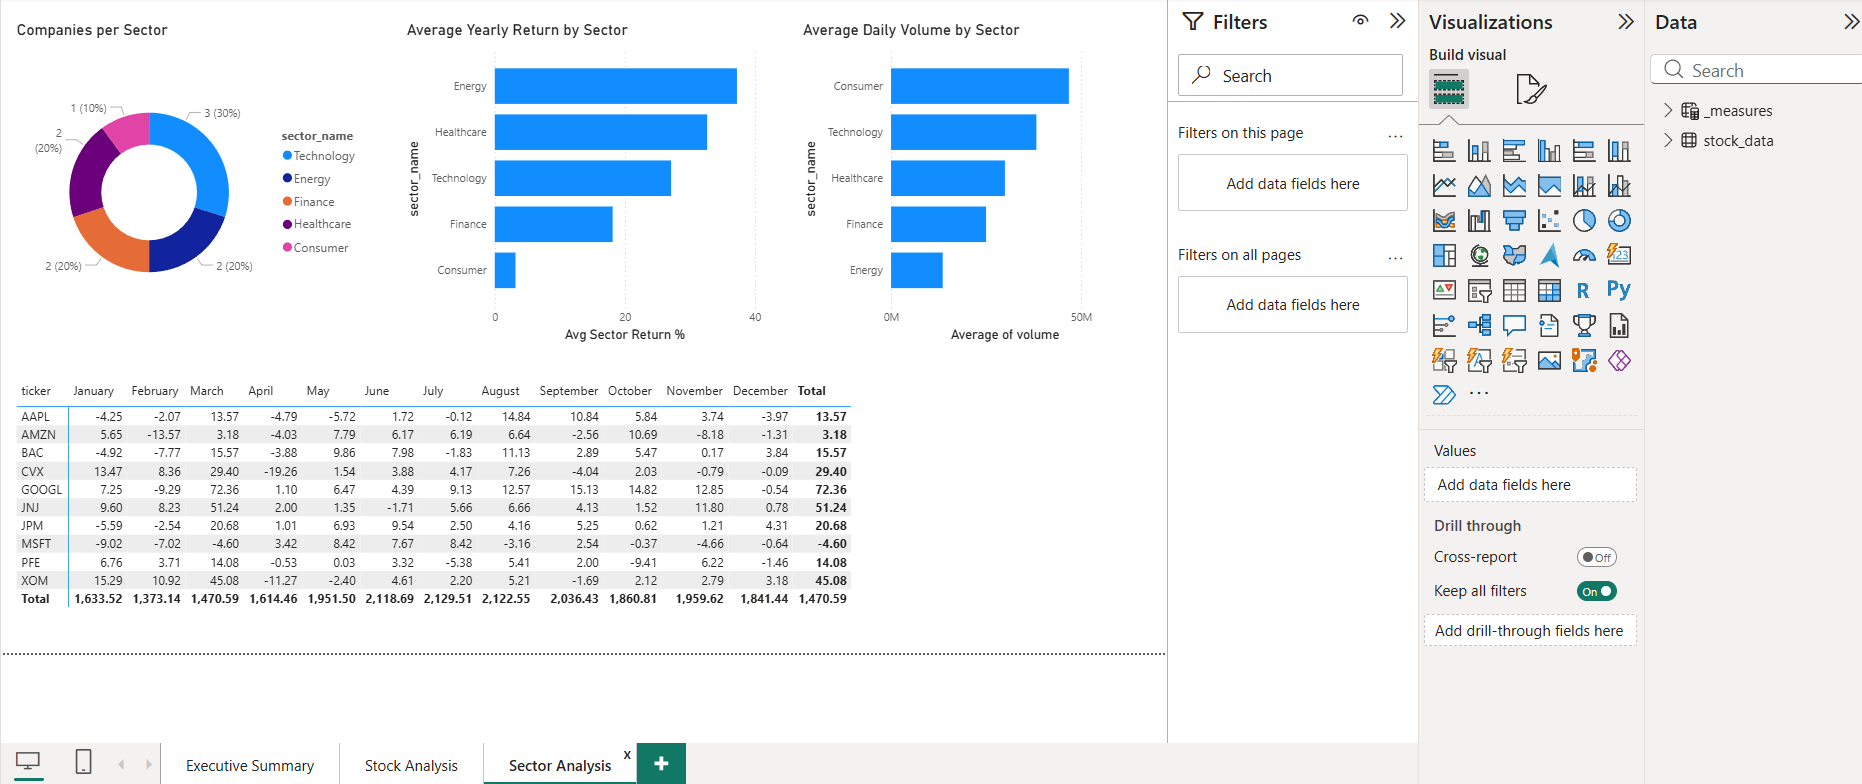

This screenshot's page, from the dashboard's own definition file:
{"tool":"powerbi","page":{"name":"Sector Analysis","canvas":[1280,720],"ordinal":2},"visuals":[{"type":"donutChart","title":"Companies per Sector","fields":{"Category":["stock_data.sector_name"],"Y":["Count(stock_data.ticker)"]},"box":[12.3,26.1,397.9,358.1],"z":0},{"type":"clusteredBarChart","title":"Average Yearly Return by Sector","fields":{"Category":["stock_data.sector_name"],"Y":["_measures.Avg Sector Return %"]},"box":[440.5,26.1,399.3,358.1],"z":1},{"type":"clusteredBarChart","title":"Average Daily Volume by Sector","fields":{"Category":["stock_data.sector_name"],"Y":["Avg(stock_data.volume)"]},"box":[875.5,26.1,369.1,358.1],"z":2},{"type":"pivotTable","fields":{"Rows":["stock_data.ticker"],"Values":["_measures.Yearly Return %"],"Columns":["stock_data.date.Variation.Date Hierarchy.Month"]},"box":[12.3,415.8,933.1,292.3],"z":3}]}

Visuals, with their boxes on the page's 1280x720 design canvas (x1, y1, x2, y2). These are canvas units, not pixel positions in the 1862x784 screenshot, which may show the page scaled, cropped or inside an application window:
"Companies per Sector" donutChart: x1=12, y1=26, x2=410, y2=384
"Average Yearly Return by Sector" clusteredBarChart: x1=440, y1=26, x2=840, y2=384
"Average Daily Volume by Sector" clusteredBarChart: x1=876, y1=26, x2=1245, y2=384
pivotTable - stock_data.ticker x _measures.Yearly Return %: x1=12, y1=416, x2=945, y2=708
